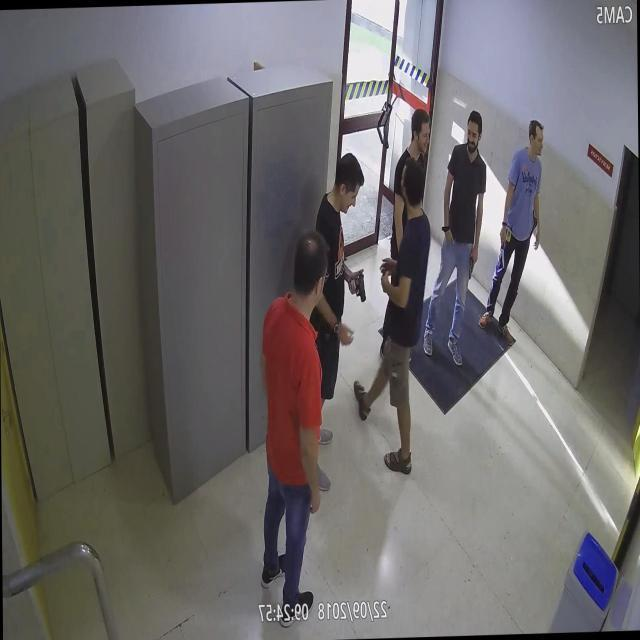pistol: (344, 257, 374, 316)
